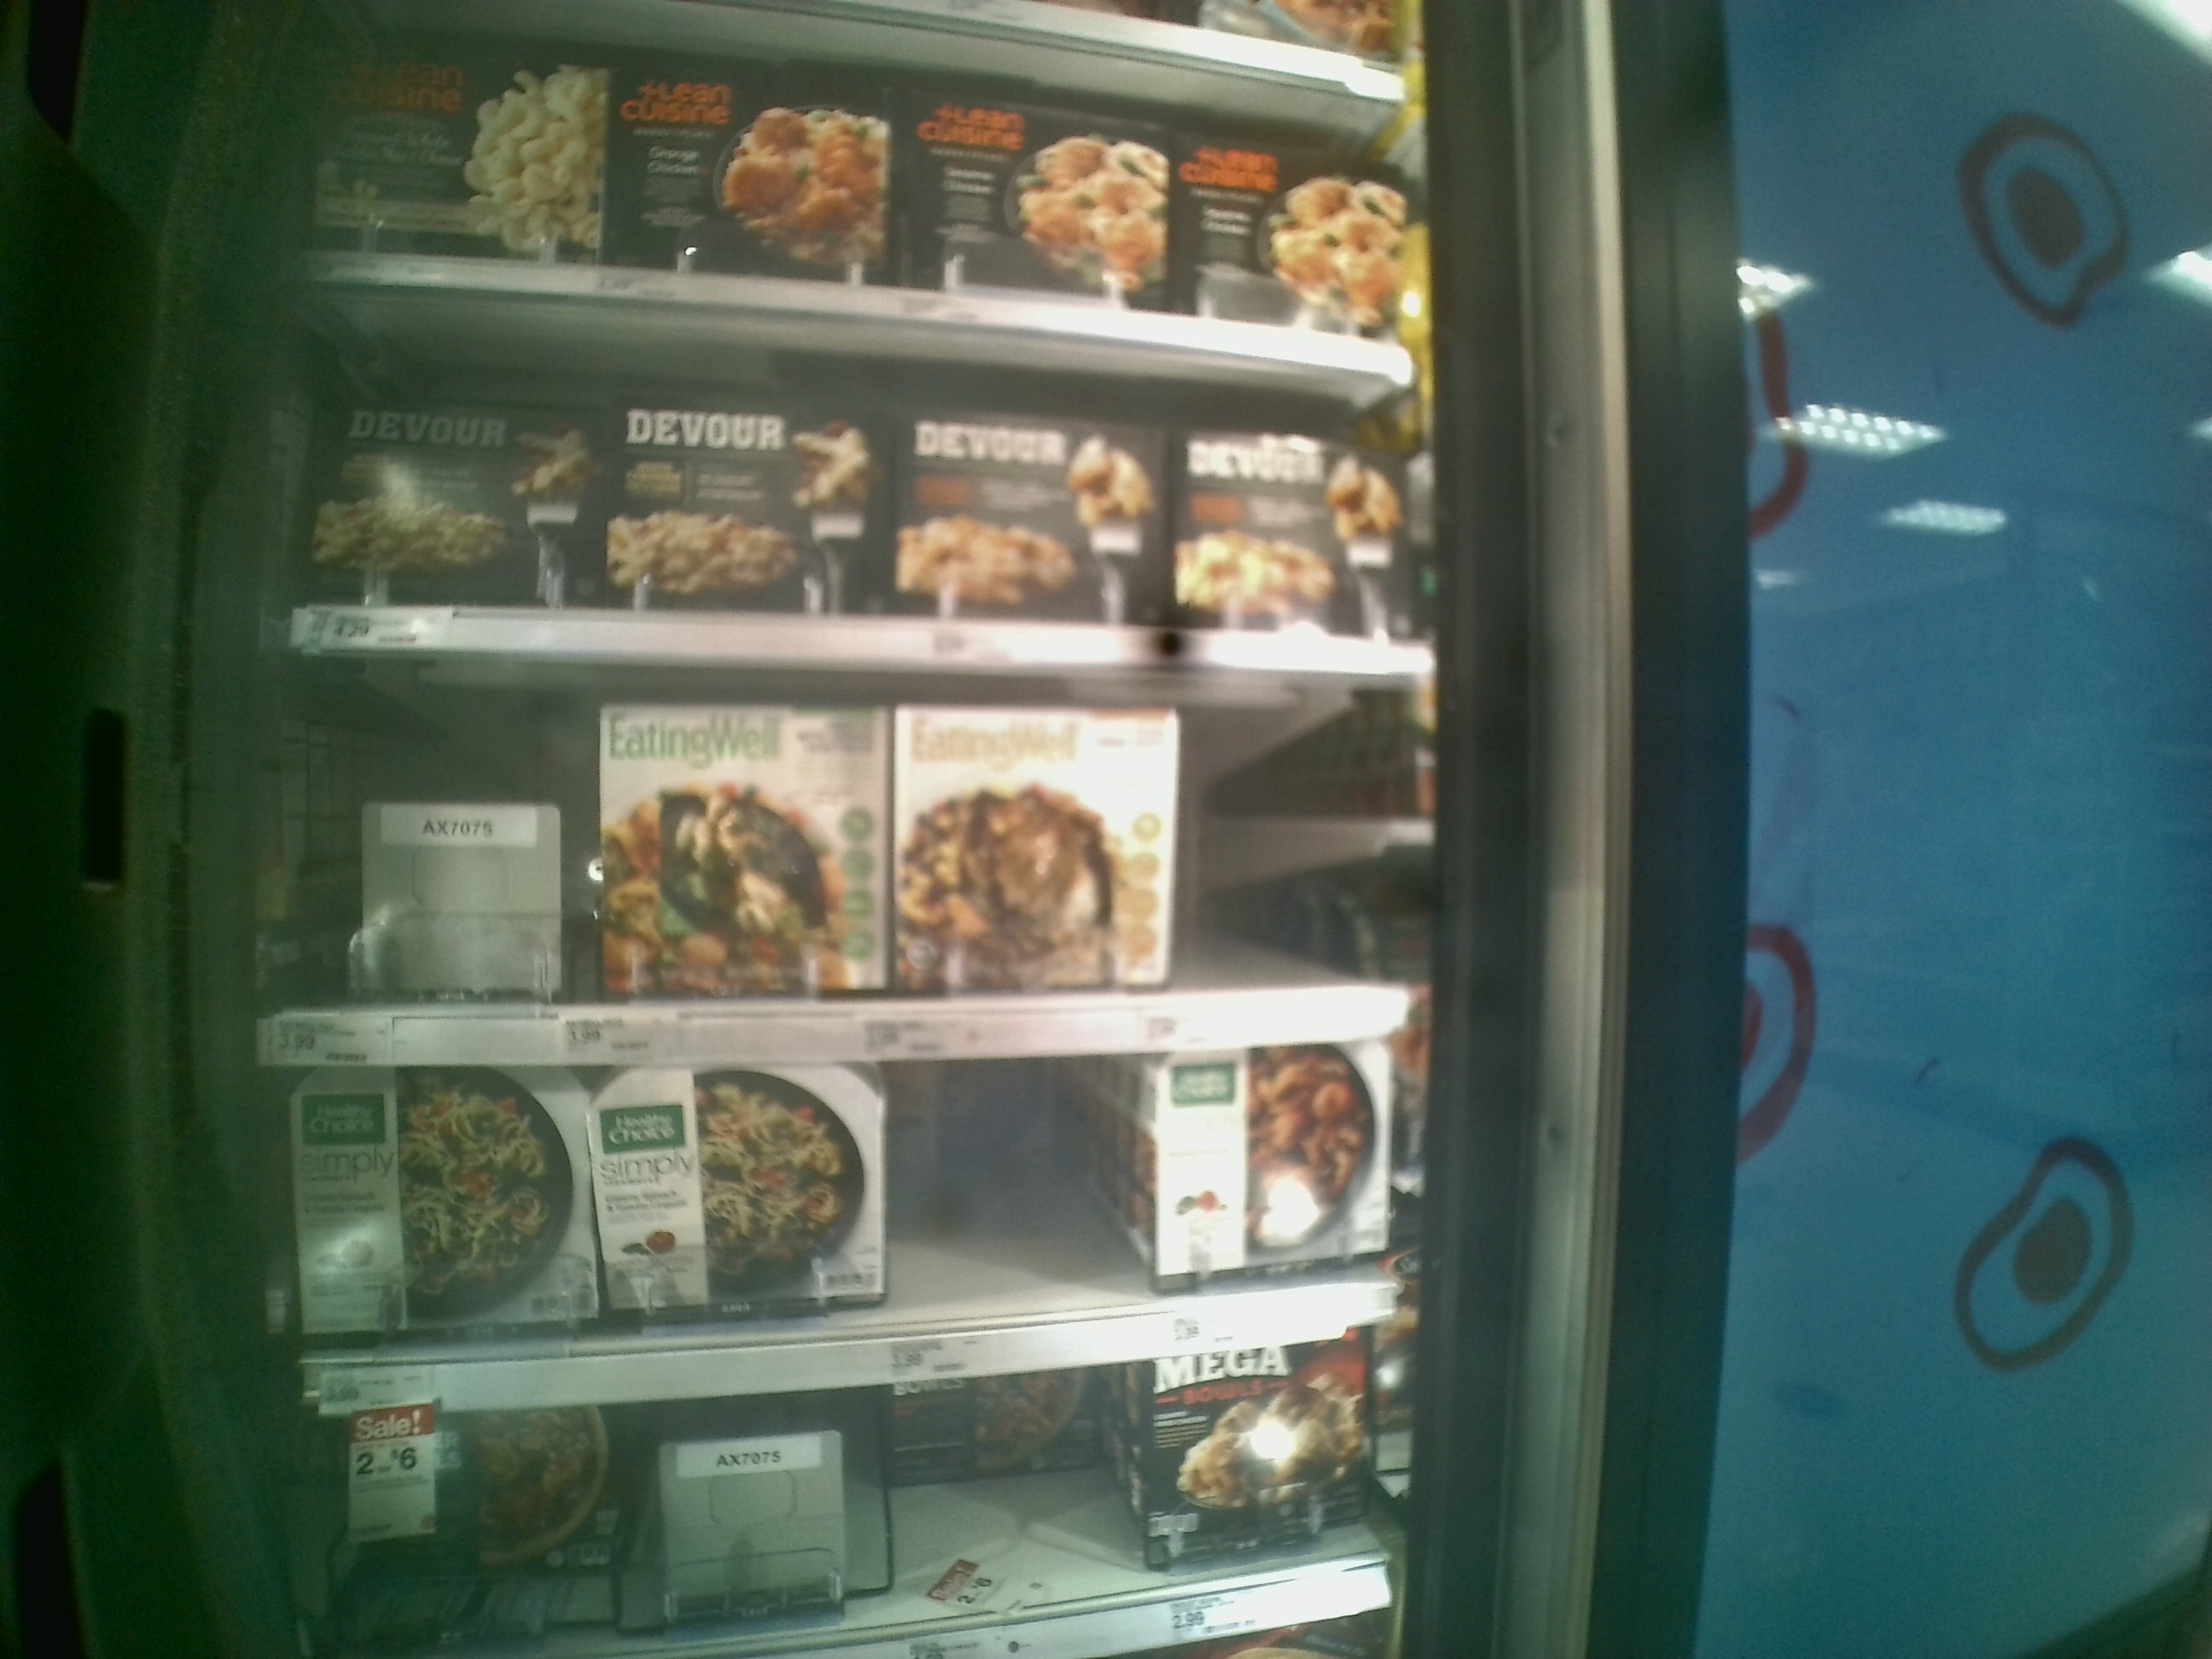pizza: (585, 706, 881, 993), (888, 688, 1176, 974), (265, 1075, 592, 1319), (592, 1075, 899, 1291), (618, 59, 899, 270), (603, 390, 873, 603), (334, 51, 599, 260), (322, 387, 585, 596), (895, 401, 1163, 601), (914, 85, 1163, 286), (1143, 1342, 1371, 1558), (1165, 1056, 1404, 1260), (1188, 422, 1400, 622), (352, 1413, 596, 1568), (1184, 129, 1404, 296)
